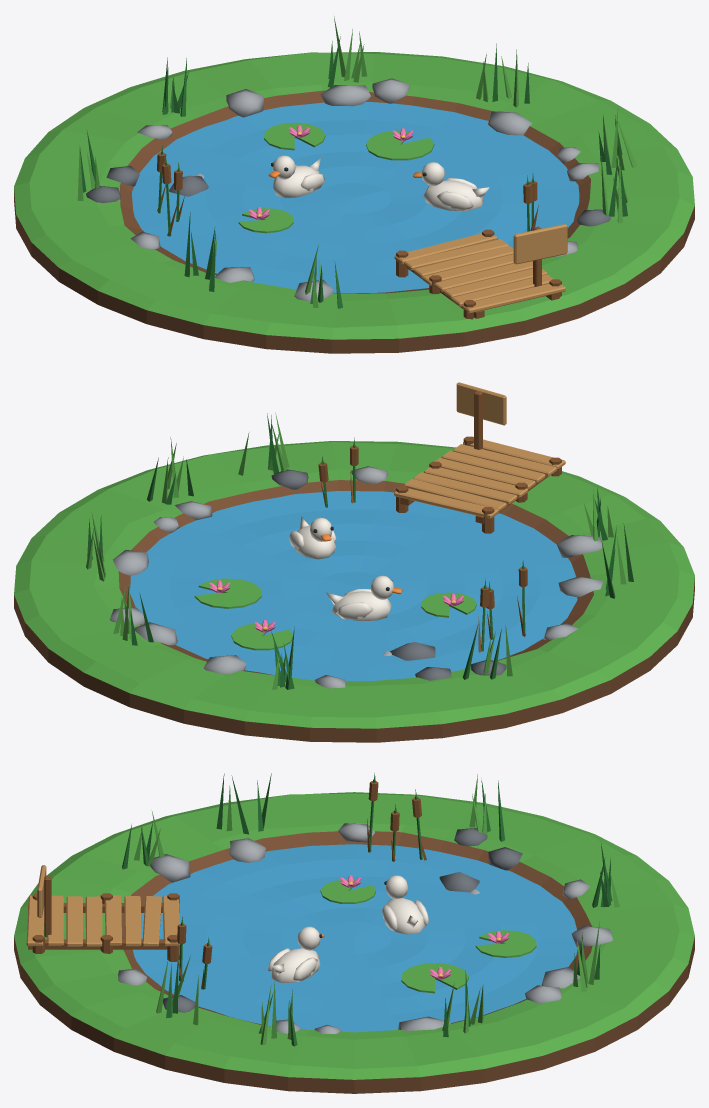
File: low-poly-duck-pond.glb
The picture shows the model from 3 angles, top to bottom: view 1: azimuth 30°, elevation 25°; view 2: azimuth 150°, elevation 25°; view 3: azimuth 270°, elevation 25°; orthographic projection.
Visible parts, largest first — view 1: Ground, Water, Jetty, Stones, Reeds, LilyPads, Duck_2, Duck_1, Cattails; view 2: Ground, Water, Jetty, Stones, Reeds, LilyPads, Duck_1, Cattails, Duck_2; view 3: Ground, Water, Jetty, Stones, Reeds, LilyPads, Duck_2, Duck_1, Cattails.
Part boxes in pixels (x1,y1,x2,y2): Ground: [14, 52, 694, 353]; Water: [132, 102, 579, 293]; Jetty: [394, 224, 567, 319]; Stones: [86, 78, 610, 301]; Reeds: [77, 16, 637, 308]; LilyPads: [238, 122, 434, 233]; Duck_2: [413, 162, 489, 210]; Duck_1: [268, 155, 324, 198]; Cattails: [157, 145, 538, 236]; Ground: [14, 441, 694, 742]; Water: [129, 491, 577, 681]; Jetty: [394, 382, 565, 533]; Stones: [110, 466, 603, 688]; Reeds: [86, 412, 633, 689]; LilyPads: [194, 578, 476, 650]; Duck_1: [326, 575, 402, 620]; Cattails: [318, 437, 527, 652]; Duck_2: [289, 516, 336, 559]; Ground: [14, 792, 694, 1093]; Water: [133, 844, 577, 1032]; Jetty: [26, 865, 180, 961]; Stones: [118, 823, 613, 1033]; Reeds: [122, 773, 619, 1046]; LilyPads: [320, 875, 536, 993]; Duck_2: [268, 926, 324, 982]; Duck_1: [382, 875, 429, 934]; Cattails: [176, 773, 426, 989].
Bounding box in the file's own units: 22 × 3.25 × 22.
